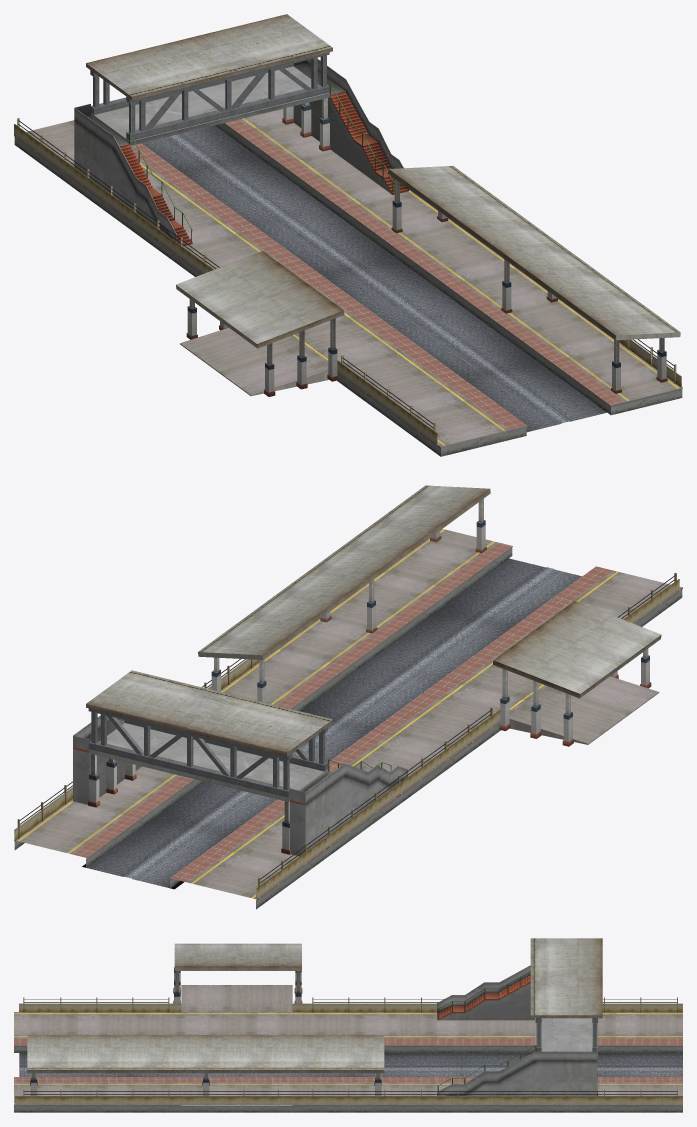
The model's file is railway station.fbx.
3 views of the same model, one above another, from view 1: azimuth 30°, elevation 25°; view 2: azimuth 150°, elevation 25°; view 3: azimuth 270°, elevation 25° (orthographic). The views are drawn at different scales.
Visible parts, largest first — view 1: polySurface394, polySurface395, pCube14, pCube2, polySurface237, polySurface236; view 2: polySurface394, polySurface395, pCube14, pCube2, polySurface237, polySurface236; view 3: polySurface394, pCube14, polySurface395, polySurface236, pCube2, polySurface237.
Boxes of the visible parts, box(x1,y1,x2,y2) form: polySurface394: box(14, 109, 682, 456); polySurface395: box(86, 14, 332, 152); pCube14: box(388, 165, 680, 340); pCube2: box(176, 251, 344, 348); polySurface237: box(74, 103, 192, 246); polySurface236: box(293, 59, 409, 194); polySurface394: box(14, 529, 682, 909); polySurface395: box(86, 670, 332, 854); pCube14: box(198, 485, 490, 659); pCube2: box(492, 601, 661, 698); polySurface237: box(289, 759, 407, 856); polySurface236: box(73, 715, 141, 804); polySurface394: box(14, 985, 682, 1112); pCube14: box(27, 1035, 384, 1073); polySurface395: box(530, 938, 602, 1095); polySurface236: box(437, 1045, 597, 1095); pCube2: box(174, 943, 301, 970); polySurface237: box(437, 965, 534, 1020).
Bounding box in the file's own units: 4250 × 1397 × 9456.
